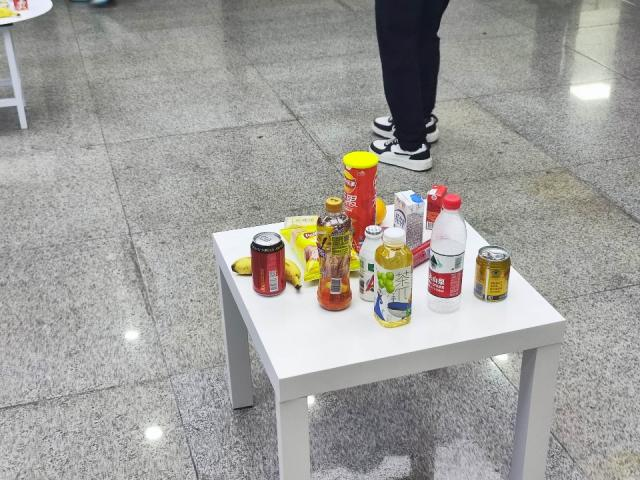Canned_drinks: (471, 244, 515, 307), (251, 228, 287, 298)
bottle: (426, 196, 468, 317)
cylinder: (342, 151, 376, 226)
drink_box: (392, 189, 428, 247)
